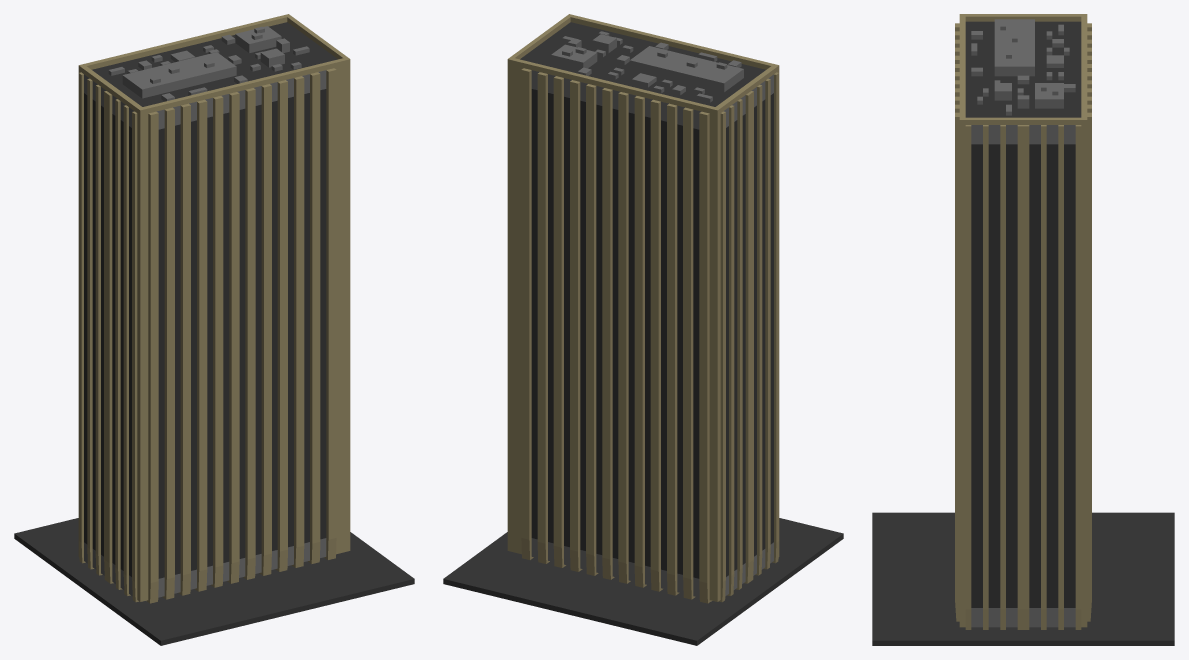
3 views of the same model, side by side, from view 1: azimuth 30°, elevation 25°; view 2: azimuth 150°, elevation 25°; view 3: azimuth 270°, elevation 25° (orthographic). The views are drawn at different scales.
Parts seen in each view (by area): view 1: Cube.014, Floor.008; view 2: Cube.014, Floor.008; view 3: Cube.014, Floor.008.
Boxes of the visible parts, x1,y1,x2,y2 form: Cube.014: (78, 14, 350, 603); Floor.008: (14, 518, 414, 645); Cube.014: (507, 14, 779, 603); Floor.008: (443, 518, 843, 645); Cube.014: (955, 14, 1091, 629); Floor.008: (872, 512, 1174, 645).
Bounding box in the file's own units: 800 × 1526 × 800.
